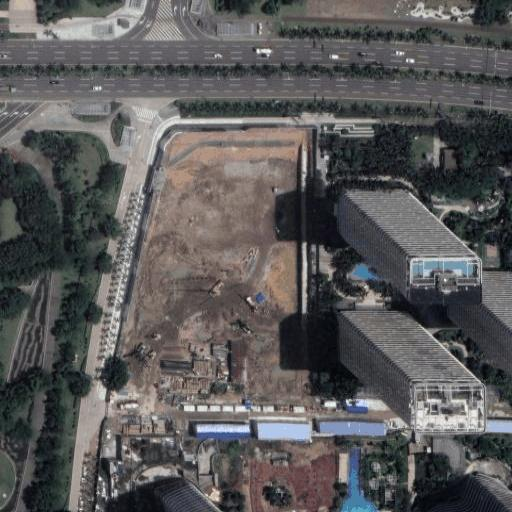building: (342, 307, 413, 357), (346, 189, 415, 236), (448, 245, 512, 291), (437, 476, 512, 512), (158, 480, 227, 512), (334, 447, 362, 512), (256, 421, 313, 441), (318, 421, 389, 436), (98, 415, 120, 460), (229, 341, 247, 386), (197, 425, 247, 437), (484, 419, 512, 434), (446, 148, 459, 170), (349, 406, 369, 414)
